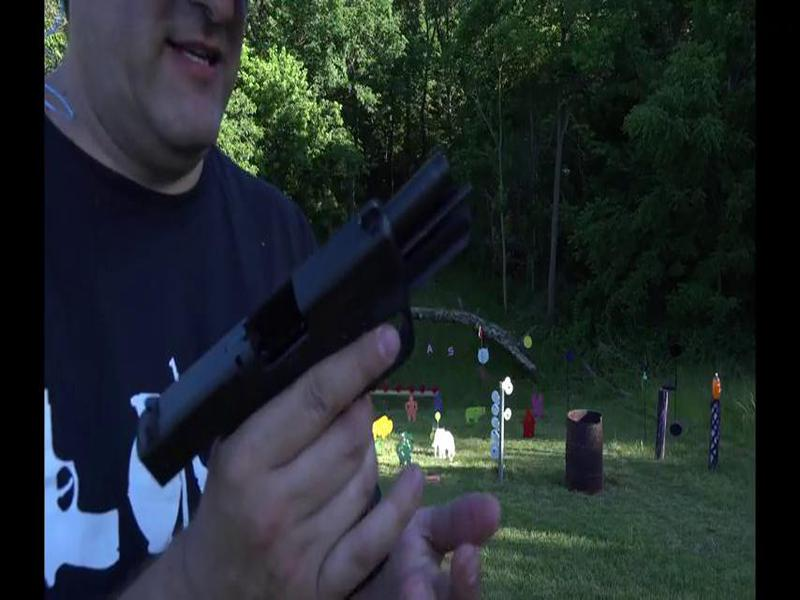Pistola: (137, 135, 466, 507)
